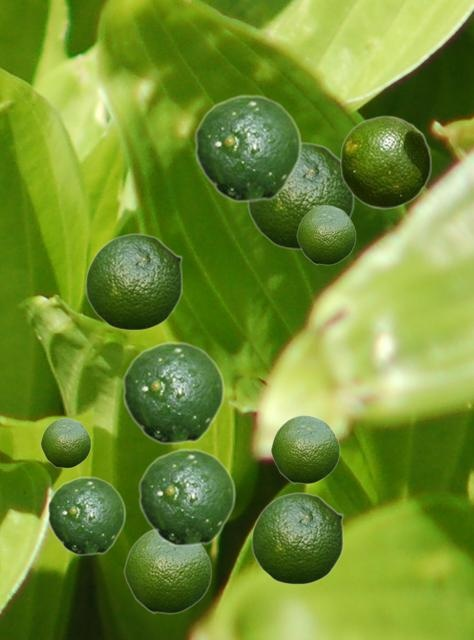calamansi: (194, 94, 301, 202), (247, 142, 354, 249), (122, 341, 224, 444), (138, 448, 235, 546), (85, 233, 182, 330), (339, 115, 431, 208), (251, 492, 343, 584), (123, 529, 211, 613), (47, 476, 125, 555), (270, 414, 339, 483), (296, 204, 355, 264), (40, 417, 90, 467)
